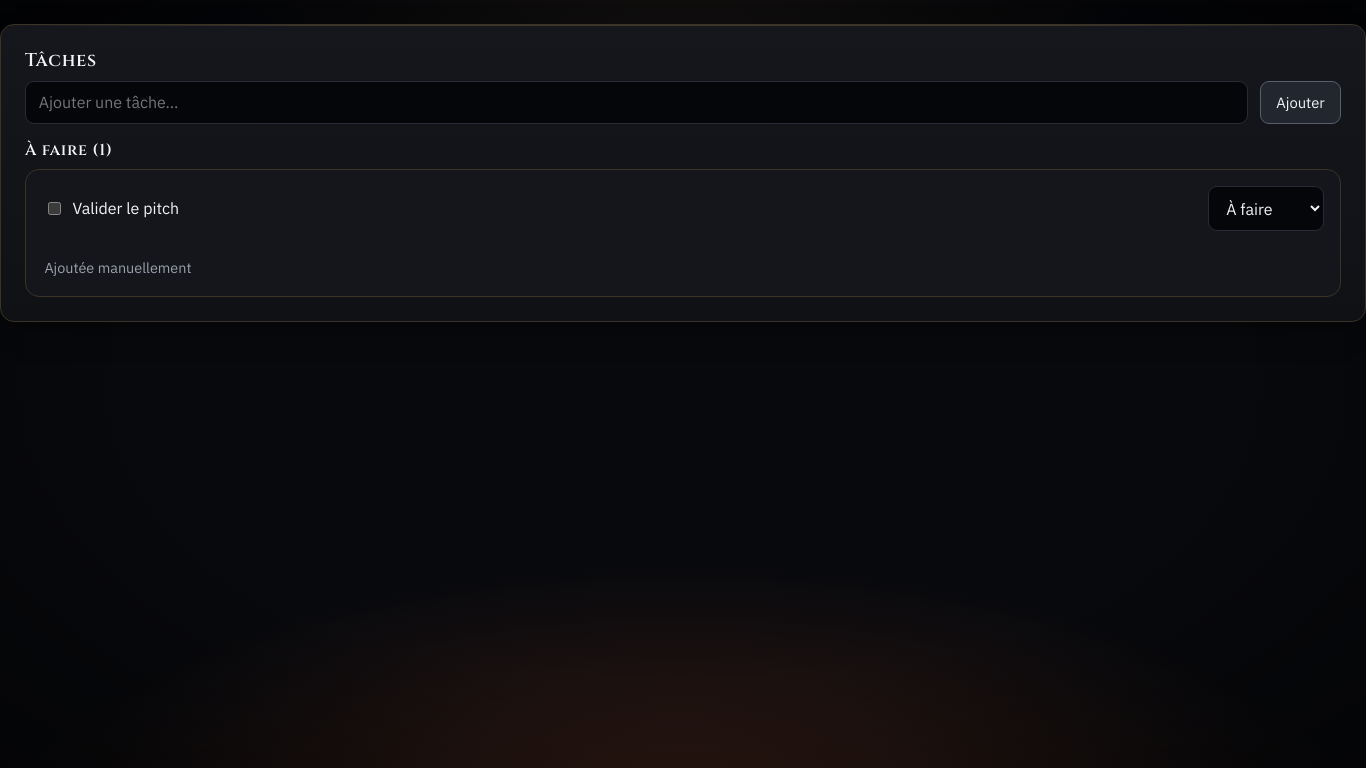
Test: TasksSection › met à jour le statut d'une tâche
Select "Terminée" in the dropdown named "Statut de Valider le pitch" at (1266, 209), box [1208, 186, 1324, 231]
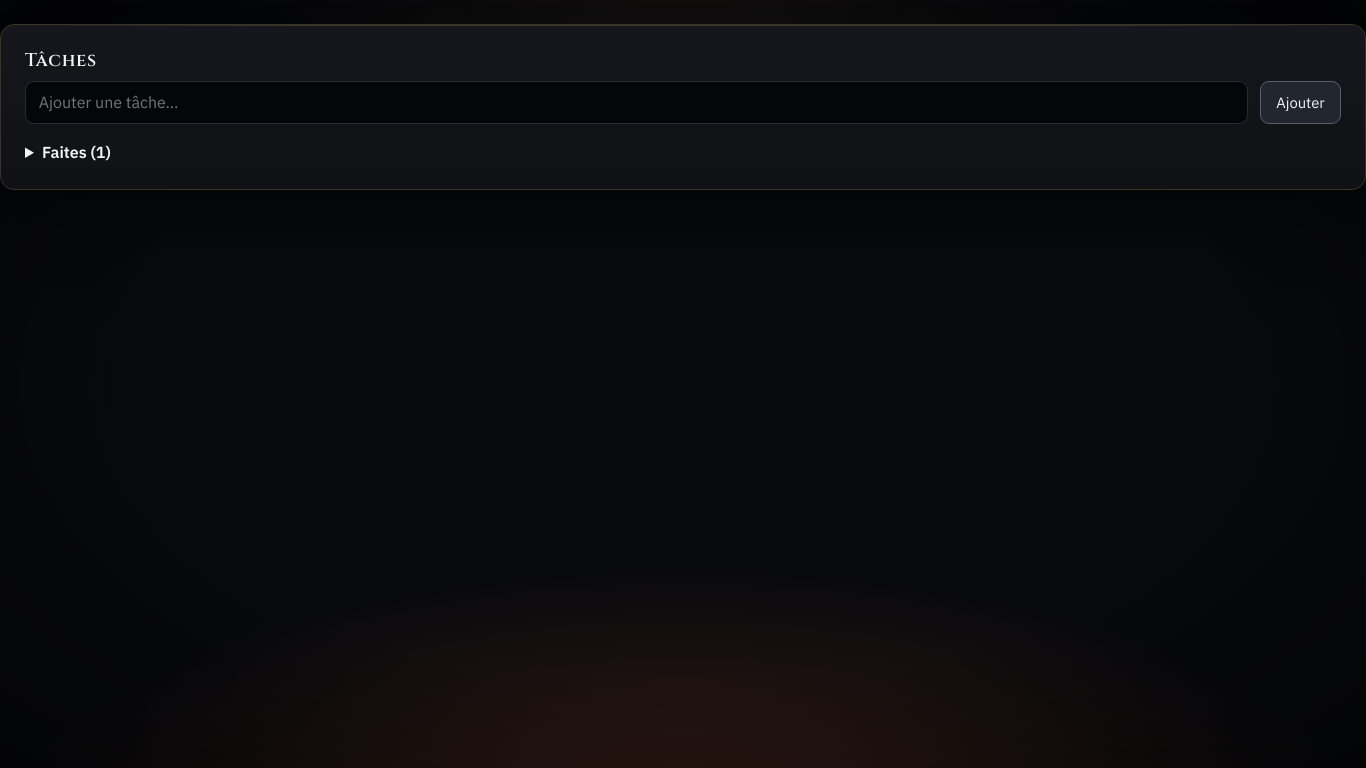
Expected: the heading "Faites (1)" is shown, [42, 142, 111, 162]
